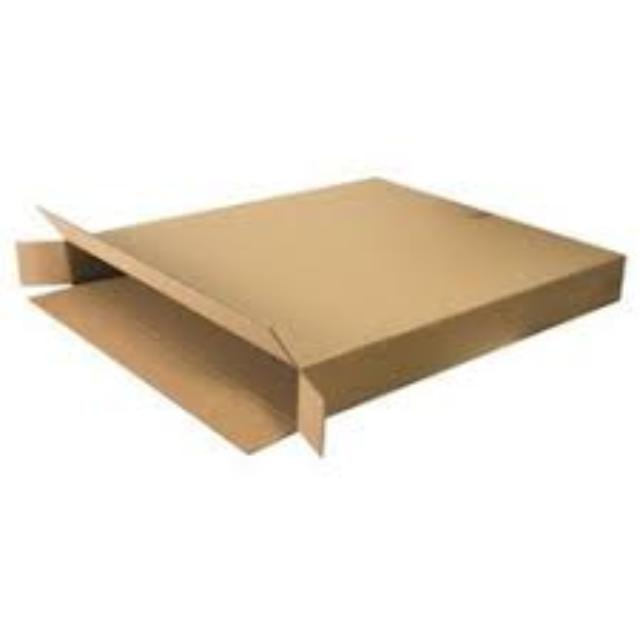cardboard paper: (34, 176, 617, 447)
